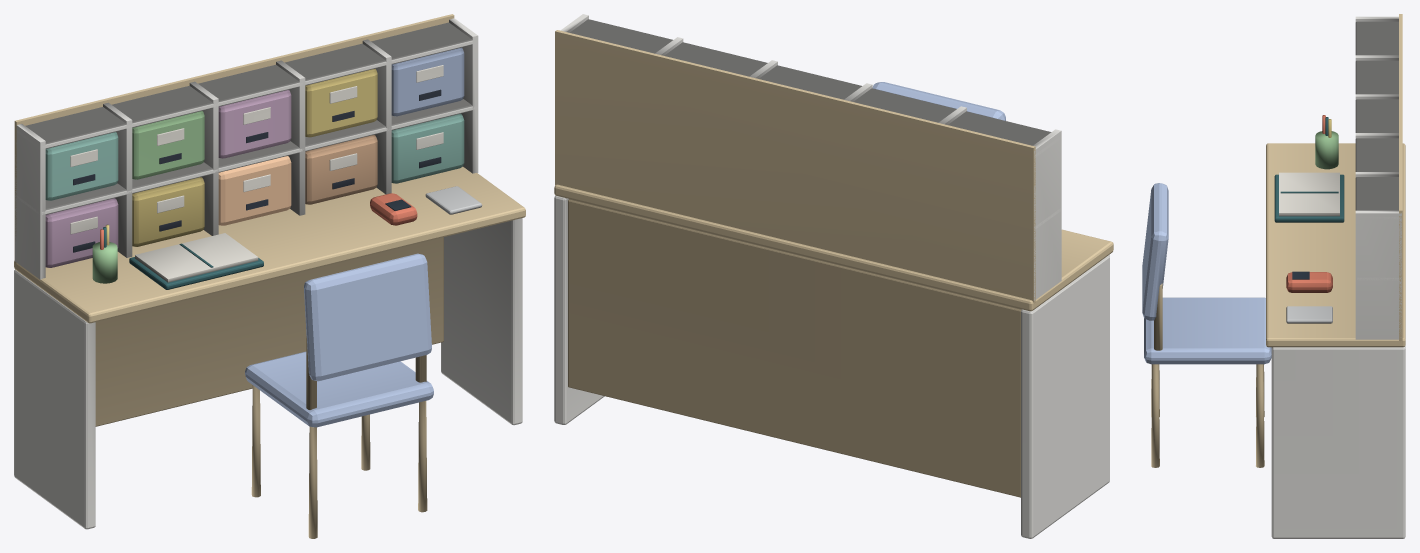
Rendered from organizerDesk.glb.
3 views of the same model, side by side, from view 1: azimuth 30°, elevation 25°; view 2: azimuth 150°, elevation 25°; view 3: azimuth 270°, elevation 25° (orthographic). The views are drawn at different scales.
Parts seen in each view (by area): view 1: body, bin; view 2: body; view 3: body.
Boxes of the visible parts, <box> form: body: <box>14,14,525,538</box>; bin: <box>218,156,291,225</box>; body: <box>554,14,1113,538</box>; body: <box>1142,14,1405,538</box>.
Size of the model in its own units: 1.6 by 1.25 by 0.905.
